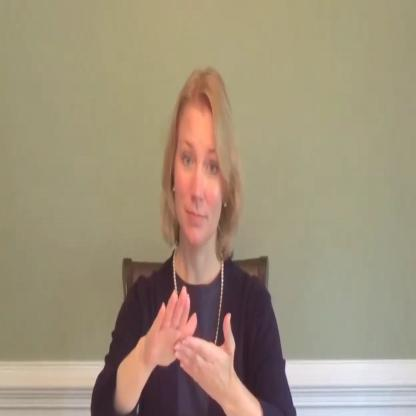NiceToMeetYou: (94, 69, 294, 411)
